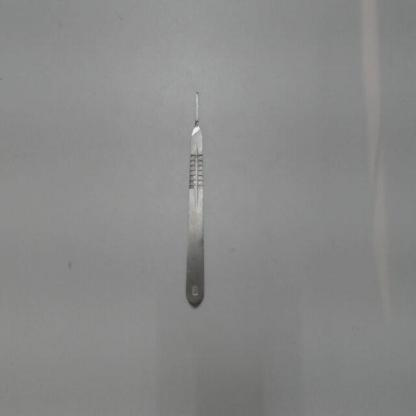No.3 BP Handle: (178, 86, 212, 316)
